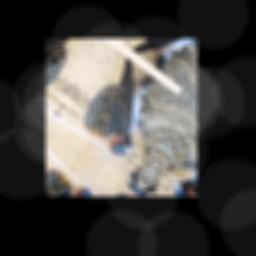Swallow: (74, 56, 172, 162)
